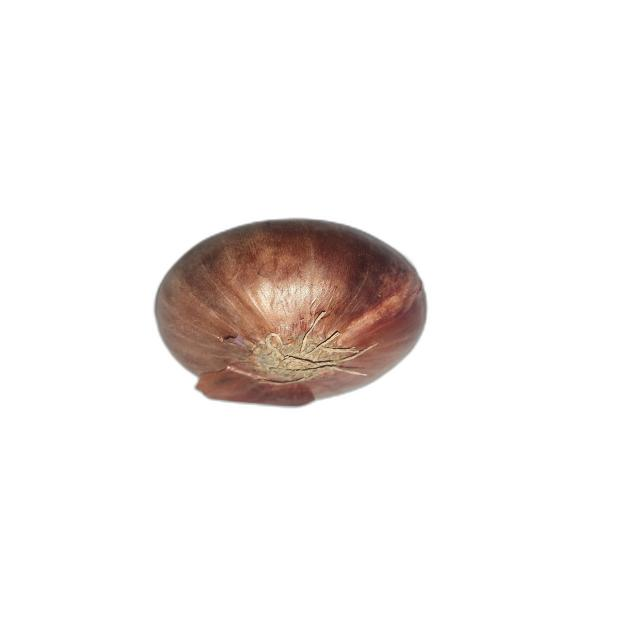onion: (153, 218, 427, 407)
